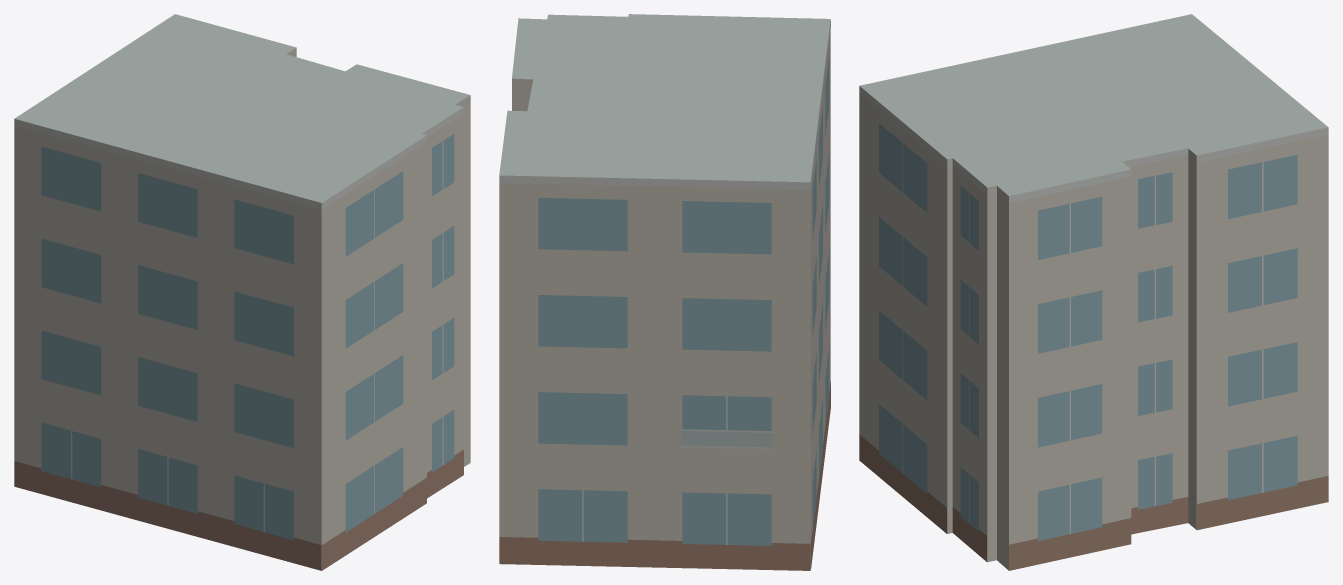
File: survey-upis-32741329.glb
3 renders of one model, left to right at view 1: azimuth 30°, elevation 25°; view 2: azimuth 150°, elevation 25°; view 3: azimuth 270°, elevation 25°, orthographic. The views are drawn at different scales.
Parts seen in each view (by area): view 1: survey-upis-32741329.tmp; view 2: survey-upis-32741329.tmp; view 3: survey-upis-32741329.tmp.
Boxes of the visible parts, left/top/right/bottom form: survey-upis-32741329.tmp: left=14, top=14, right=470, bottom=570; survey-upis-32741329.tmp: left=499, top=14, right=830, bottom=570; survey-upis-32741329.tmp: left=859, top=14, right=1328, bottom=570.
Bounding box in the file's own units: 13.46 × 12.9 × 14.65.
